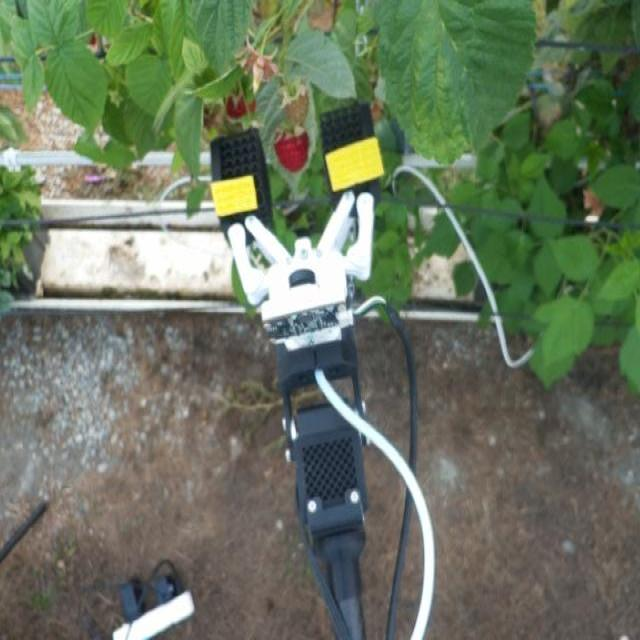Riped berries: (271, 124, 311, 173), (225, 86, 258, 120)
